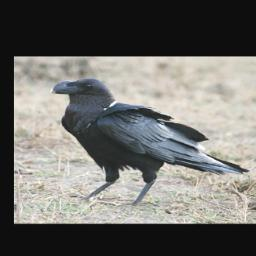Crow: (48, 78, 249, 207)
